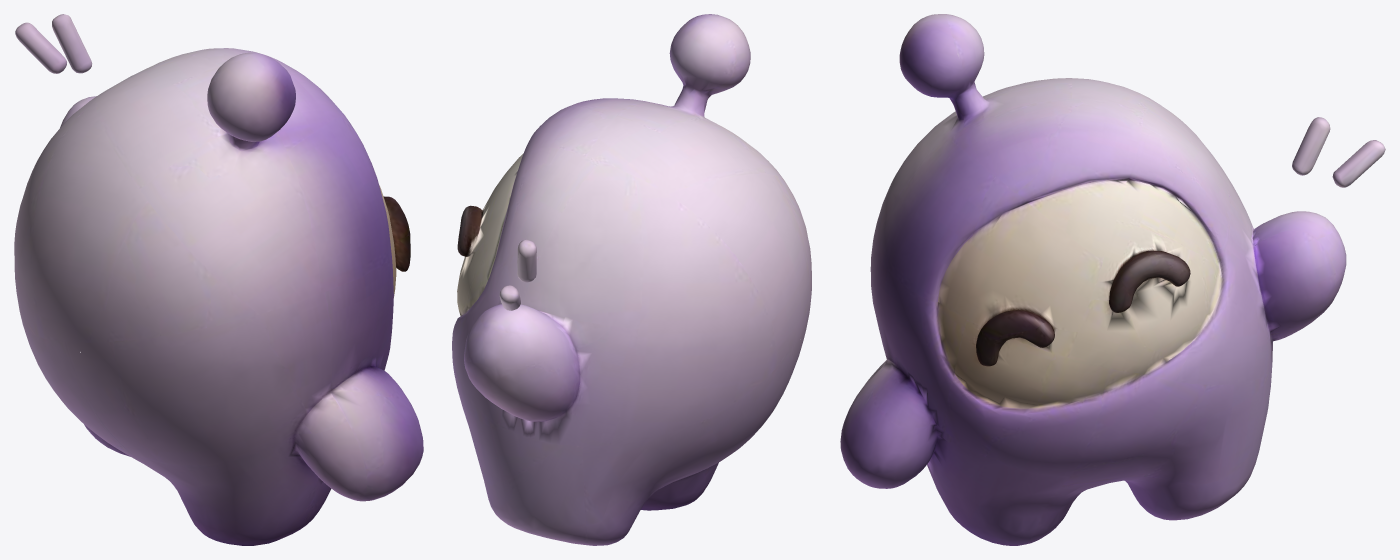
The model's file is mochi-waving.glb.
3 views of the same model, side by side, from view 1: azimuth 30°, elevation 25°; view 2: azimuth 150°, elevation 25°; view 3: azimuth 270°, elevation 25° (orthographic). The views are drawn at different scales.
Parts seen in each view (by area): view 1: tripo_node_fd20c689-5ef8-4028-b3fc-665ae1ca332c; view 2: tripo_node_fd20c689-5ef8-4028-b3fc-665ae1ca332c; view 3: tripo_node_fd20c689-5ef8-4028-b3fc-665ae1ca332c.
Boxes of the visible parts, x1,y1,x2,y2 form: tripo_node_fd20c689-5ef8-4028-b3fc-665ae1ca332c: (14,14,423,545); tripo_node_fd20c689-5ef8-4028-b3fc-665ae1ca332c: (452,14,811,545); tripo_node_fd20c689-5ef8-4028-b3fc-665ae1ca332c: (840,14,1385,545).
Bounding box in the file's own units: 0.6757 × 0.9748 × 0.9797.
Materials: 1 (1 with a texture image).
